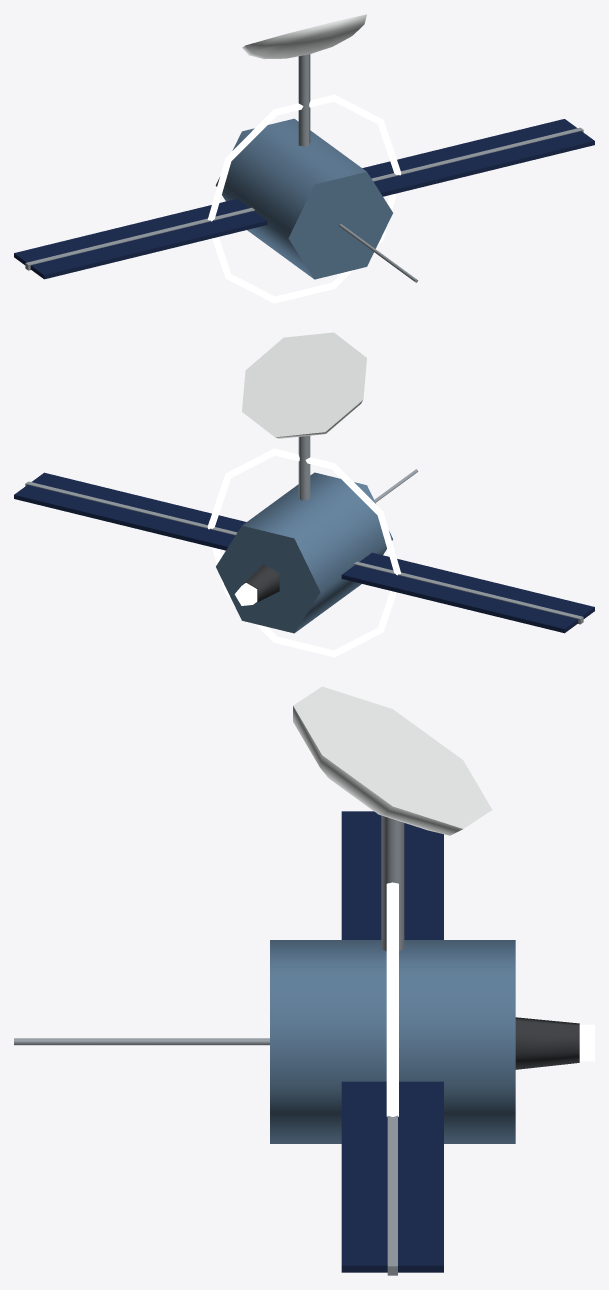
File: space_ship_probe_mk6_lod1.glb
3 views of the same model, one above another, from view 1: azimuth 30°, elevation 25°; view 2: azimuth 150°, elevation 25°; view 3: azimuth 270°, elevation 25° (orthographic). The views are drawn at different scales.
Visible parts, largest first — view 1: body, solar_0, solar_1, antenna_0; view 2: body, antenna_0, solar_0, solar_1, engine_0; view 3: body, solar_1, antenna_0, solar_0, engine_0.
Part boxes in pixels (box(x1,y1,x2,y2)): body: box(207, 94, 418, 303); solar_0: box(14, 199, 267, 279); solar_1: box(362, 119, 594, 196); antenna_0: box(242, 14, 366, 146); body: box(207, 448, 418, 657); antenna_0: box(242, 332, 366, 500); solar_0: box(341, 552, 594, 633); solar_1: box(14, 472, 246, 550); engine_0: box(234, 564, 279, 605); body: box(14, 882, 515, 1143); solar_1: box(341, 1081, 443, 1275); antenna_0: box(293, 686, 492, 951); solar_0: box(341, 811, 443, 939); engine_0: box(515, 1017, 594, 1069).
Bounding box in the file's own units: 8.47 × 4.32 × 4.54.
